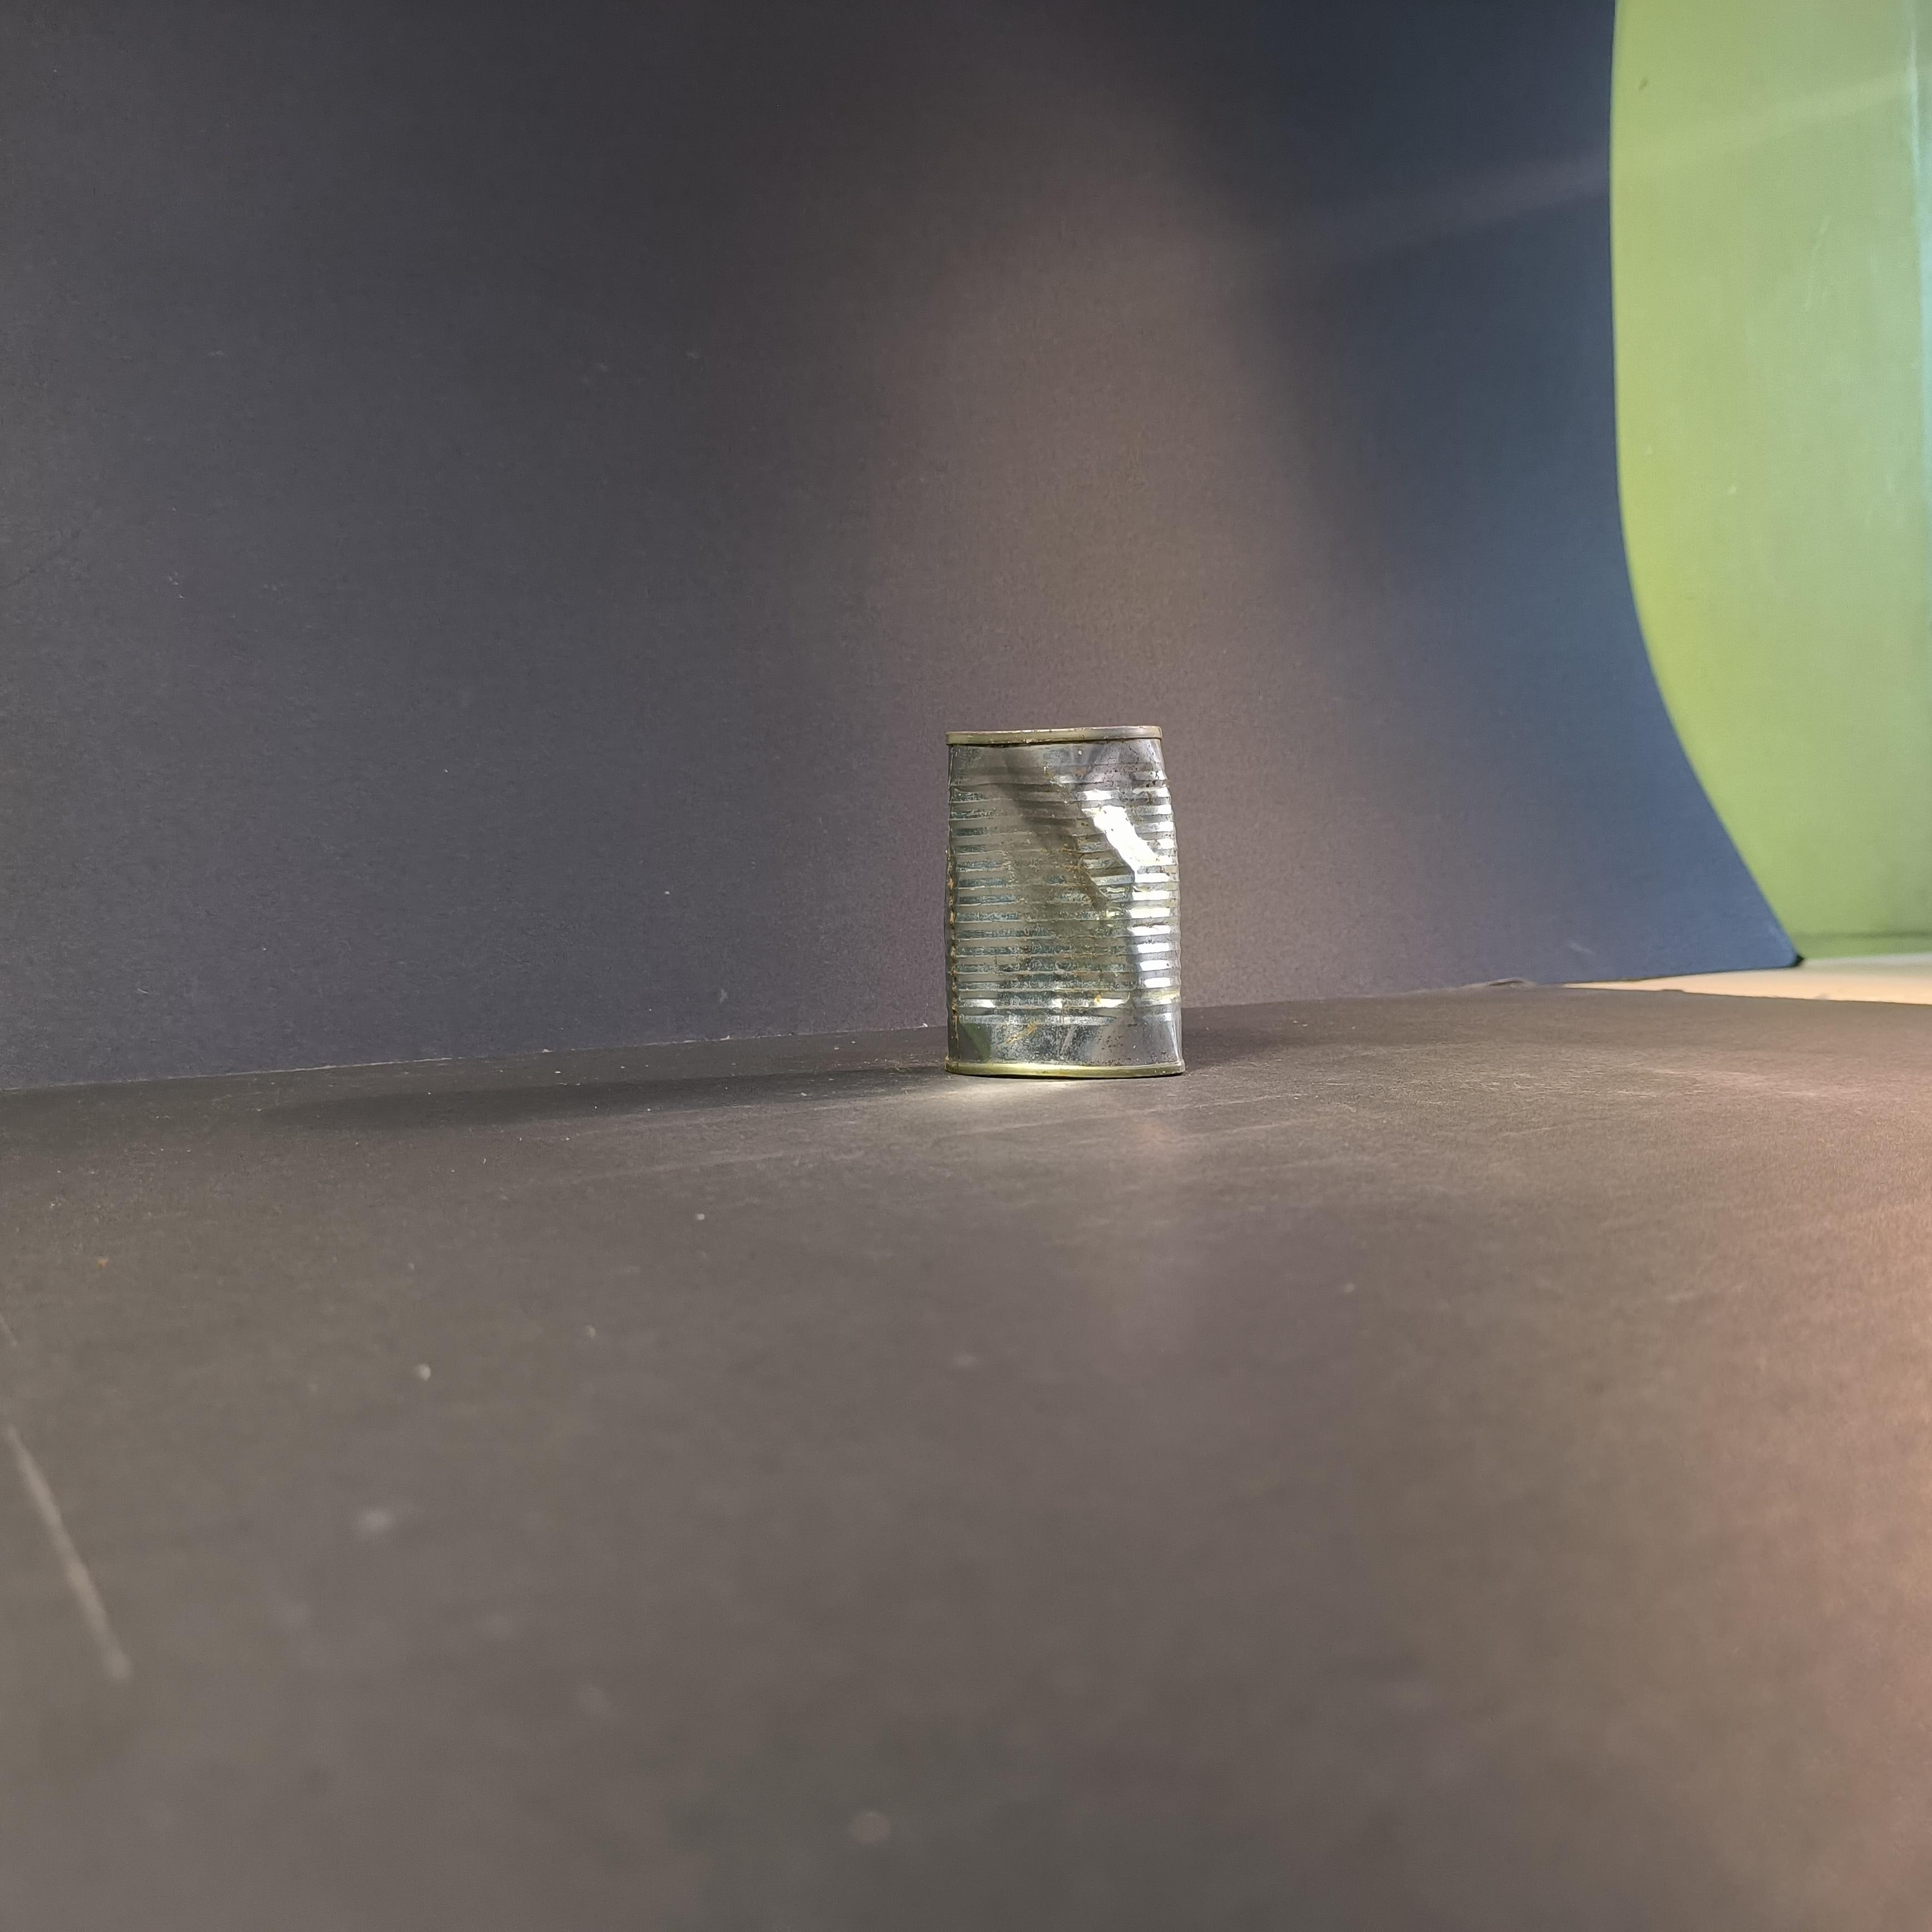Major Defect: (943, 725, 1185, 1079)
